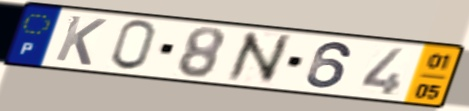0: (107, 18, 159, 73)
4: (358, 46, 407, 96)
6: (303, 39, 353, 91)
8: (176, 26, 228, 80)
K: (51, 13, 110, 68)
N: (224, 29, 293, 85)
